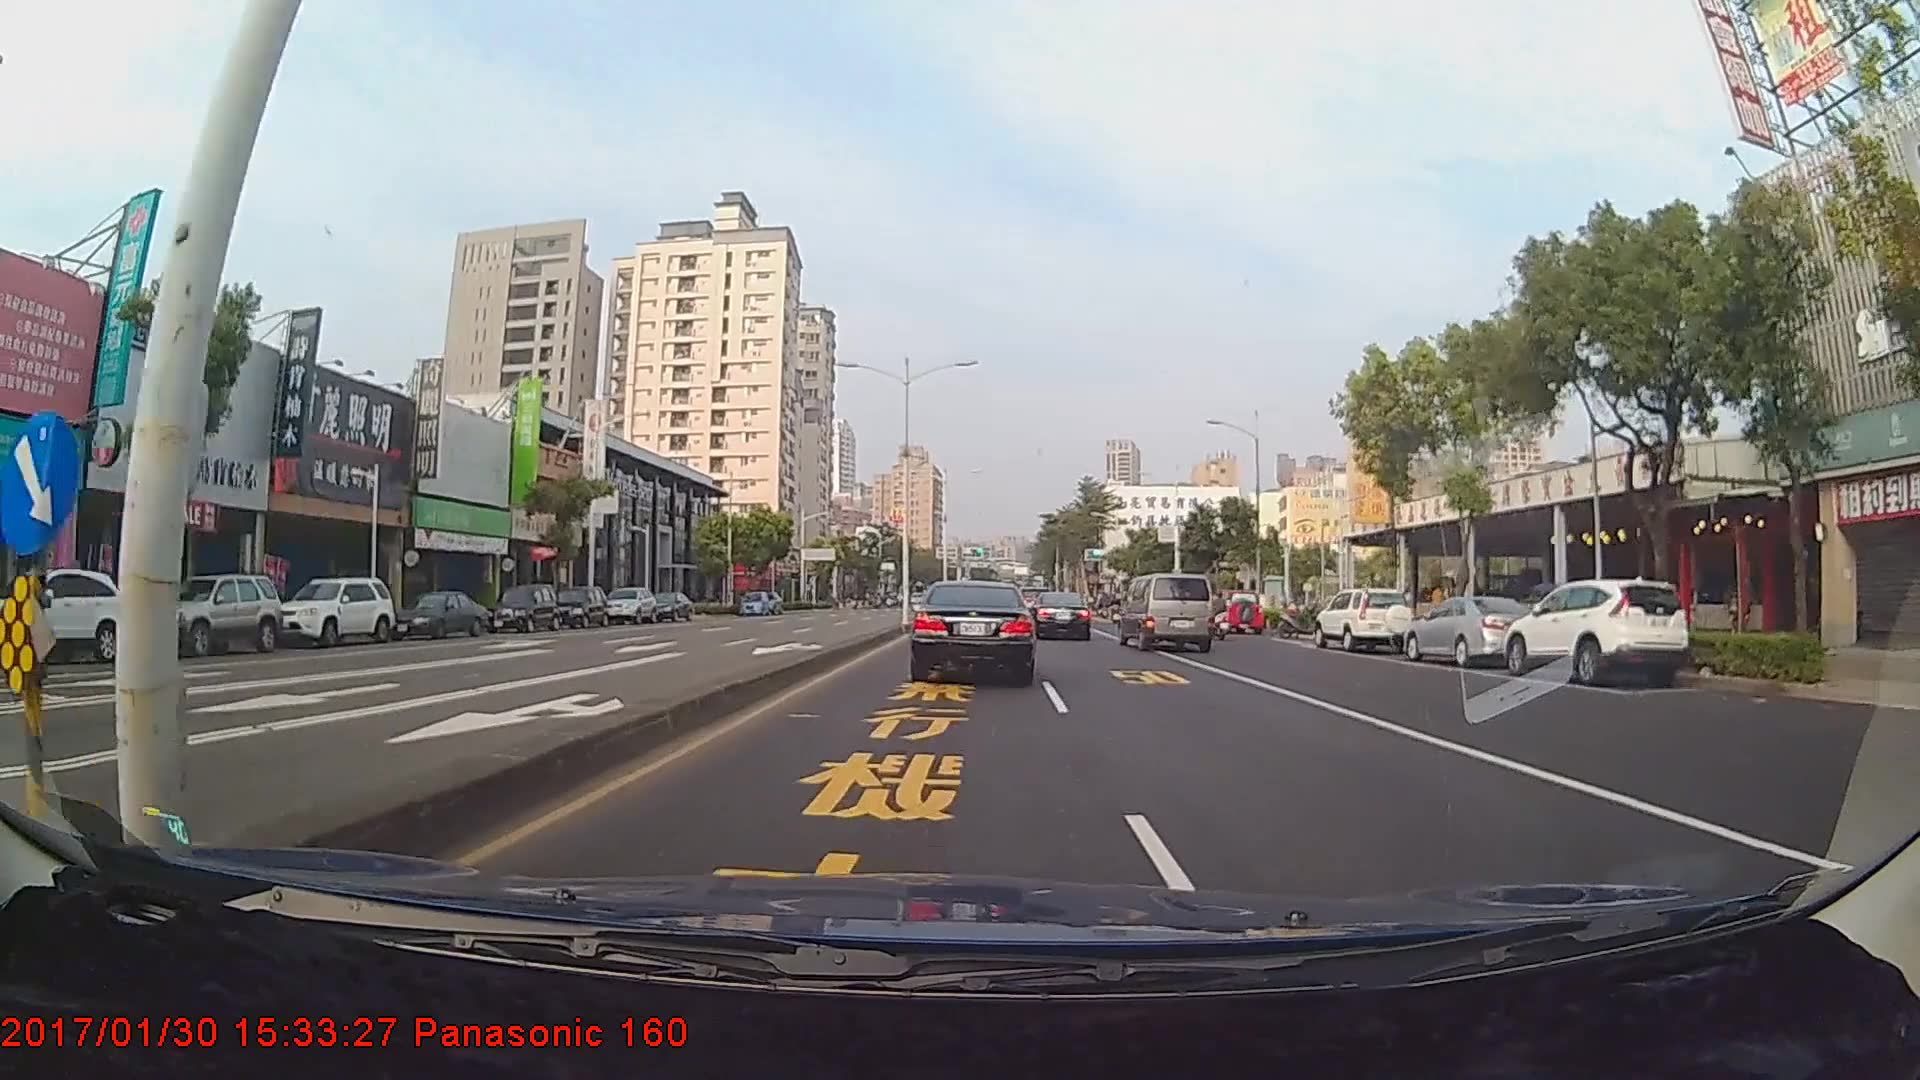rider: (1211, 590, 1238, 642)
vehicle: (1502, 578, 1689, 686), (0, 569, 130, 668), (913, 577, 1035, 682), (134, 572, 283, 658), (1398, 592, 1525, 669), (272, 574, 395, 646), (1118, 572, 1214, 652), (1315, 586, 1414, 653), (388, 592, 489, 641), (486, 583, 561, 633), (1026, 590, 1092, 641), (550, 584, 607, 628), (1212, 591, 1265, 636), (605, 586, 661, 625), (644, 588, 693, 621), (737, 590, 768, 617)
